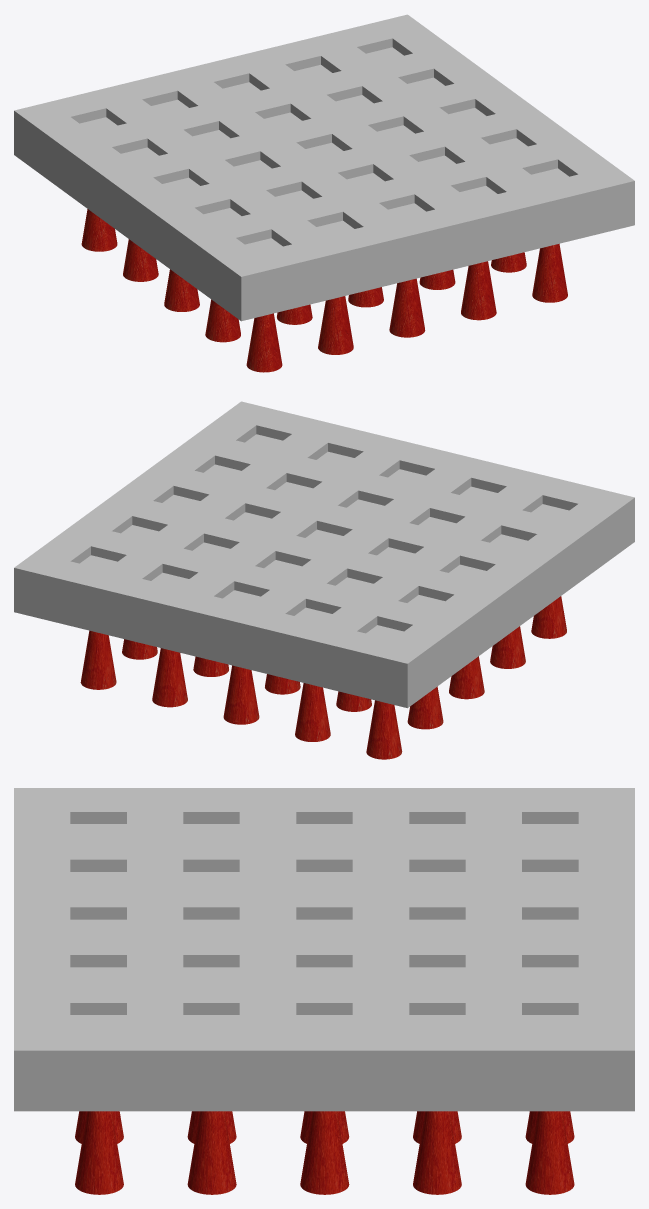
Rendered from Thorn_Trap.fbx.
The picture shows the model from 3 angles, top to bottom: view 1: azimuth 30°, elevation 25°; view 2: azimuth 150°, elevation 25°; view 3: azimuth 270°, elevation 25°; orthographic projection. The views are drawn at different scales.
Parts seen in each view (by area): view 1: Cube.055, Cone; view 2: Cube.055, Cone; view 3: Cube.055, Cone.
Boxes of the visible parts, x1=… form: Cube.055: x1=14, y1=14, x2=634, y2=321; Cone: x1=81, y1=209, x2=567, y2=372; Cube.055: x1=14, y1=401, x2=634, y2=708; Cone: x1=80, y1=596, x2=566, y2=759; Cube.055: x1=14, y1=788, x2=634, y2=1111; Cone: x1=75, y1=1111, x2=574, y2=1194.
Bounding box in the file's own units: 200 × 60.29 × 200.
